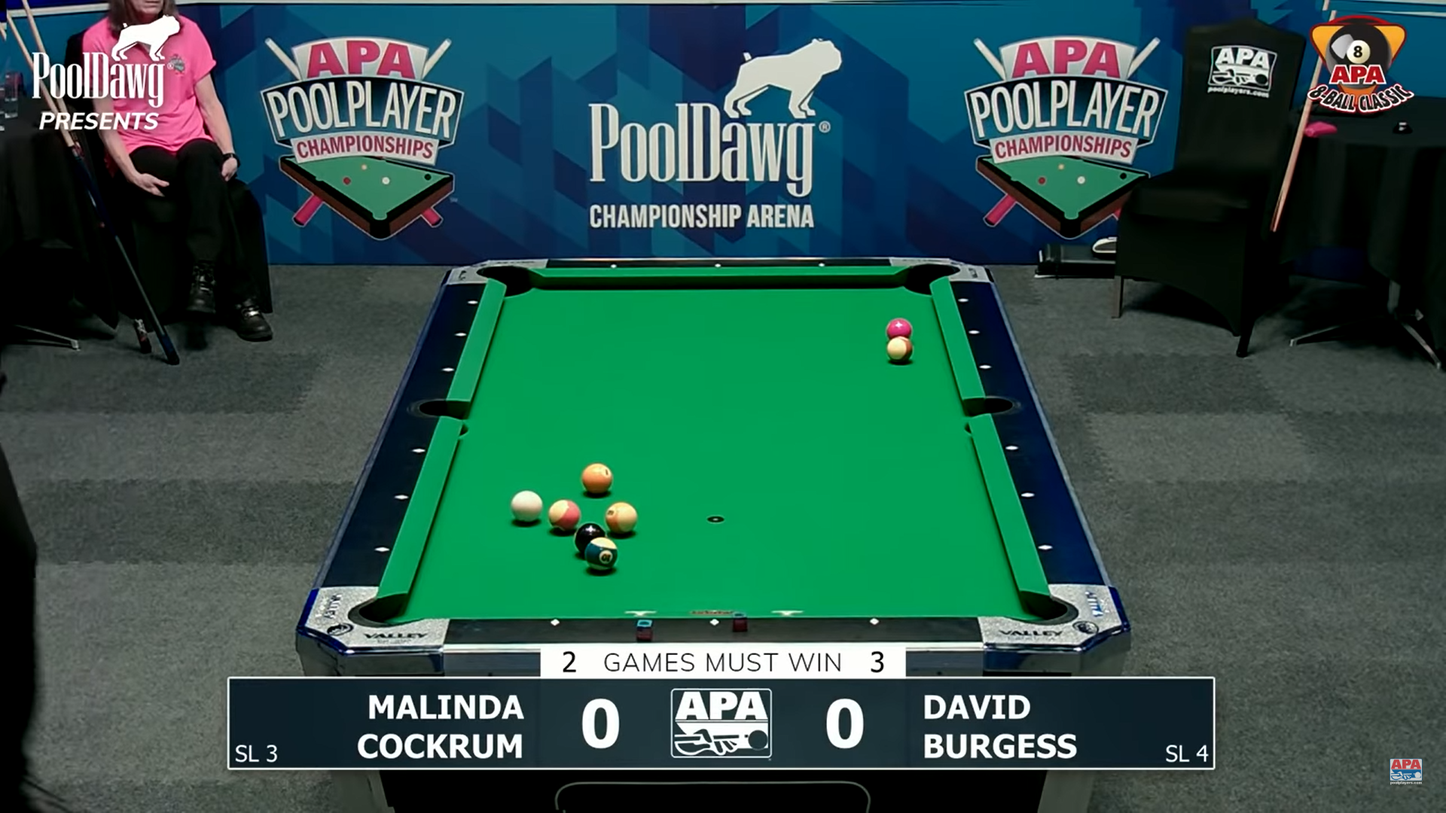Black: (575, 522, 607, 554)
Cue: (511, 490, 543, 521)
Dot: (1037, 538, 1056, 557), (1018, 487, 1037, 506), (1003, 439, 1022, 458), (977, 359, 993, 375), (966, 325, 982, 341), (955, 292, 971, 308), (375, 542, 390, 557), (411, 442, 426, 457), (453, 327, 468, 342), (441, 362, 455, 377), (394, 490, 408, 504), (467, 295, 481, 309), (708, 617, 721, 630), (869, 616, 882, 629), (549, 617, 562, 629), (714, 262, 721, 269), (610, 263, 616, 270), (819, 262, 825, 268)
Solid: (582, 463, 613, 494), (887, 318, 912, 340)
Striped: (584, 537, 618, 571), (606, 502, 638, 534), (549, 499, 581, 531), (886, 336, 914, 362)
